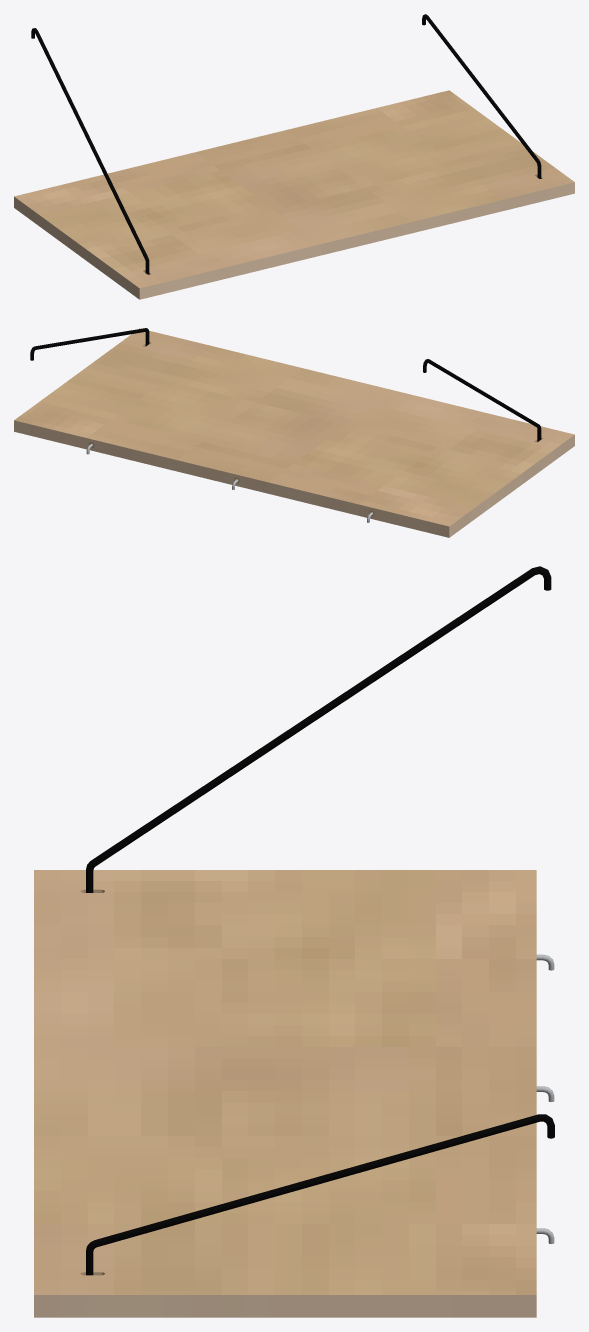
File: board60x30_t2_right.glb
3 renders of one model, top to bottom at view 1: azimuth 30°, elevation 25°; view 2: azimuth 150°, elevation 25°; view 3: azimuth 270°, elevation 25°, orthographic. The views are drawn at different scales.
Visible parts, largest first — view 1: Geom3D (×4); view 2: Geom3D (×4); view 3: Geom3D (×4).
Part boxes in pixels (x1,y1,x2,y2): Geom3D (×4): (14,14,574,299); Geom3D (×4): (14,328,574,537); Geom3D (×4): (34,566,554,1317).
Size of the model in its own units: 0.6 by 0.2296 by 0.3108.
Materials: 4 (3 with a texture image).
